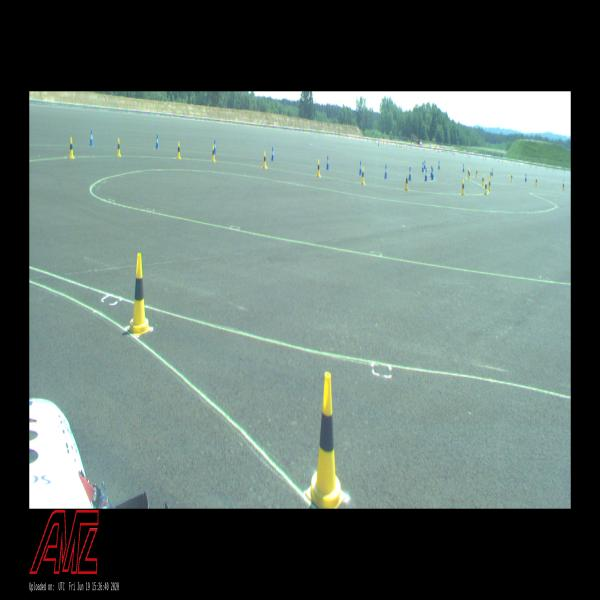blue_cone: (90, 130, 94, 146), (156, 134, 160, 149), (358, 161, 362, 175), (384, 164, 387, 178), (214, 140, 217, 154), (424, 168, 427, 181), (409, 167, 412, 180), (326, 156, 329, 169), (271, 148, 274, 160), (431, 168, 434, 179), (422, 161, 424, 172), (430, 167, 432, 178), (424, 160, 426, 169), (462, 164, 464, 172), (524, 174, 526, 182), (438, 161, 440, 169), (491, 168, 493, 176)
yellow_cone: (306, 372, 345, 508), (128, 253, 152, 335), (69, 138, 75, 158), (404, 174, 409, 190), (117, 138, 121, 156), (461, 179, 465, 196), (361, 167, 365, 184), (177, 142, 181, 159), (263, 152, 267, 168), (212, 146, 216, 162), (317, 160, 320, 177), (484, 180, 487, 194), (488, 178, 491, 190), (481, 174, 484, 186), (475, 168, 478, 178), (562, 182, 565, 190), (467, 168, 469, 178), (468, 170, 470, 180), (535, 177, 537, 186), (490, 169, 491, 178), (511, 173, 512, 181)
